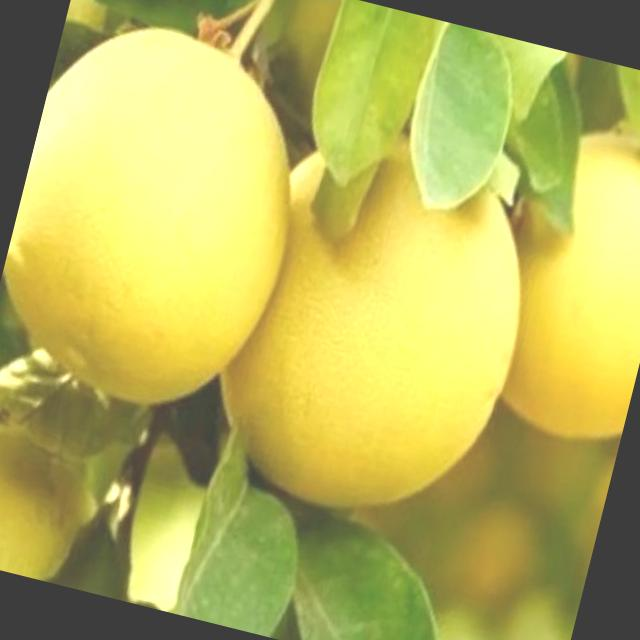Orange: (175, 94, 564, 560), (0, 6, 332, 430), (442, 83, 640, 463), (0, 412, 134, 594)
